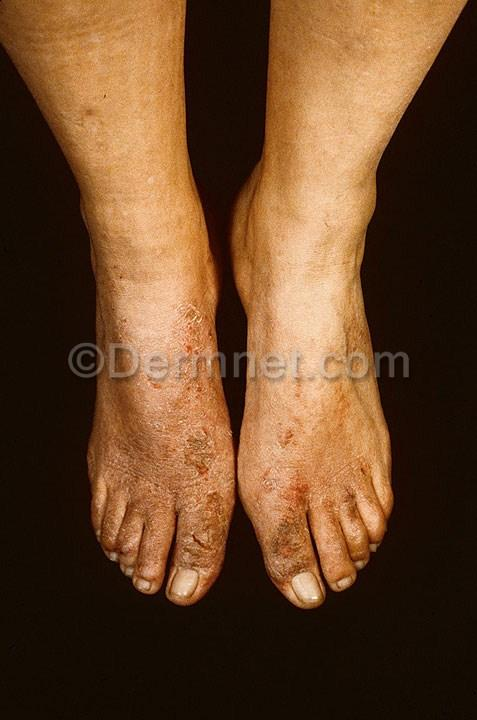Eczema: (137, 369, 229, 504), (137, 262, 219, 349), (243, 481, 322, 569), (71, 405, 132, 489), (86, 209, 135, 291), (263, 400, 315, 459), (322, 382, 384, 431), (181, 507, 228, 565), (343, 435, 394, 485), (307, 502, 347, 555), (336, 481, 374, 530), (136, 512, 177, 555), (89, 504, 121, 538)
